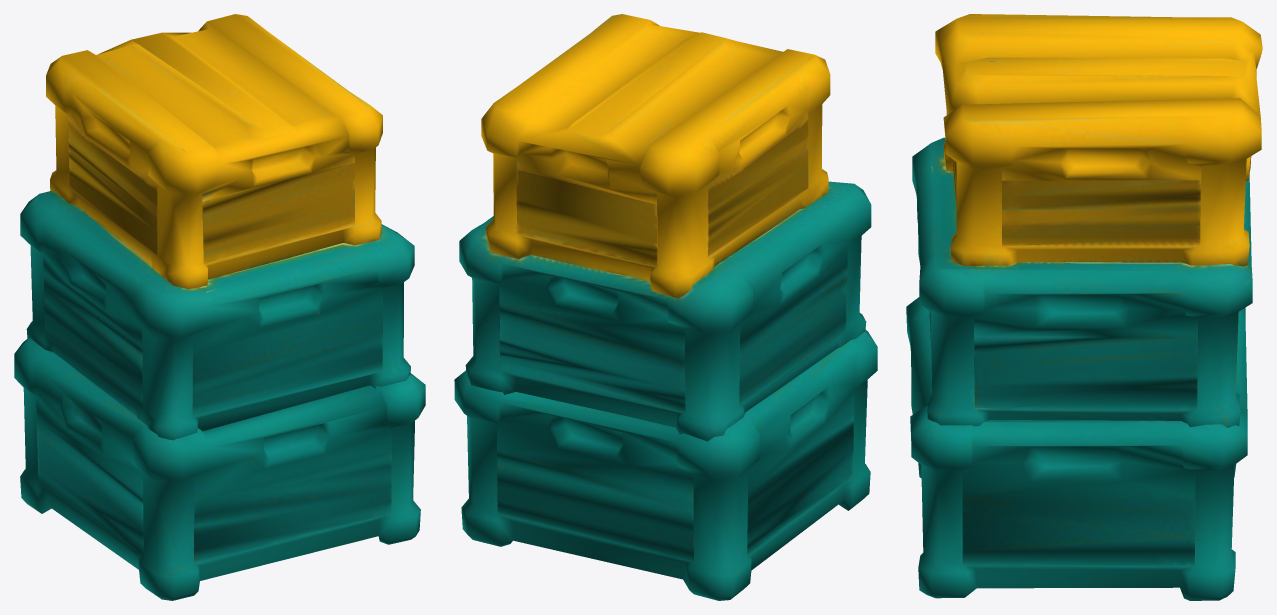
File: PROP_CRATES_A01.glb
The picture shows the model from 3 angles, left to right: view 1: azimuth 30°, elevation 25°; view 2: azimuth 150°, elevation 25°; view 3: azimuth 270°, elevation 25°; orthographic projection. The views are drawn at different scales.
Visible parts, largest first — view 1: tripo_node_8449d07d-4510-451c-b3d6-1e2fec14a2af; view 2: tripo_node_8449d07d-4510-451c-b3d6-1e2fec14a2af; view 3: tripo_node_8449d07d-4510-451c-b3d6-1e2fec14a2af.
Part boxes in pixels (bbox=[...]): tripo_node_8449d07d-4510-451c-b3d6-1e2fec14a2af: bbox=[14, 14, 425, 600]; tripo_node_8449d07d-4510-451c-b3d6-1e2fec14a2af: bbox=[454, 14, 877, 600]; tripo_node_8449d07d-4510-451c-b3d6-1e2fec14a2af: bbox=[906, 14, 1262, 600].
Size of the model in its own units: 0.6816 by 0.998 by 0.6895.
1 material, 1 textured.
